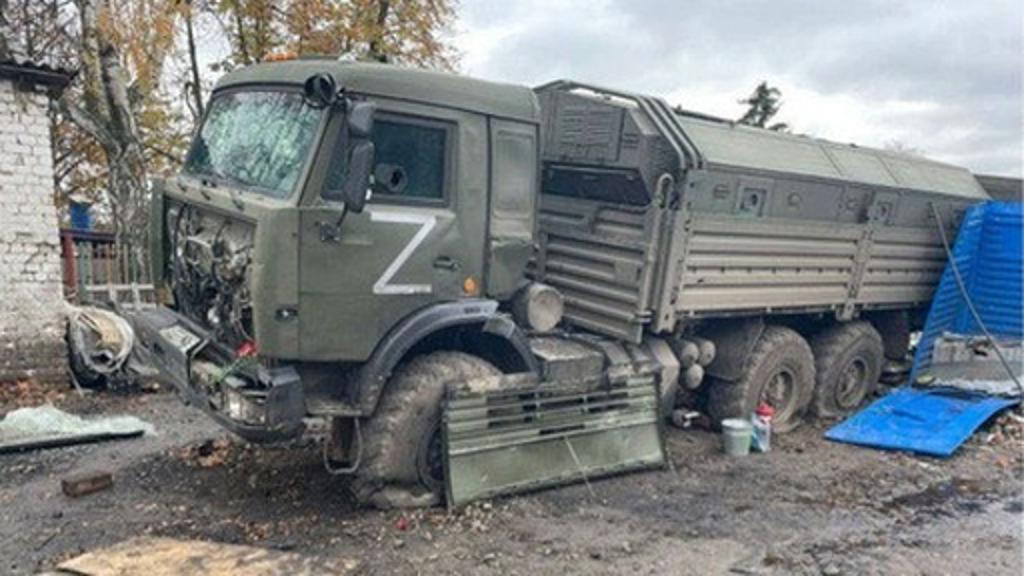TRUCK: (124, 36, 992, 508)
